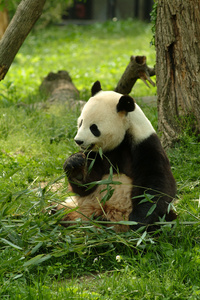panda: (63, 82, 181, 234)
